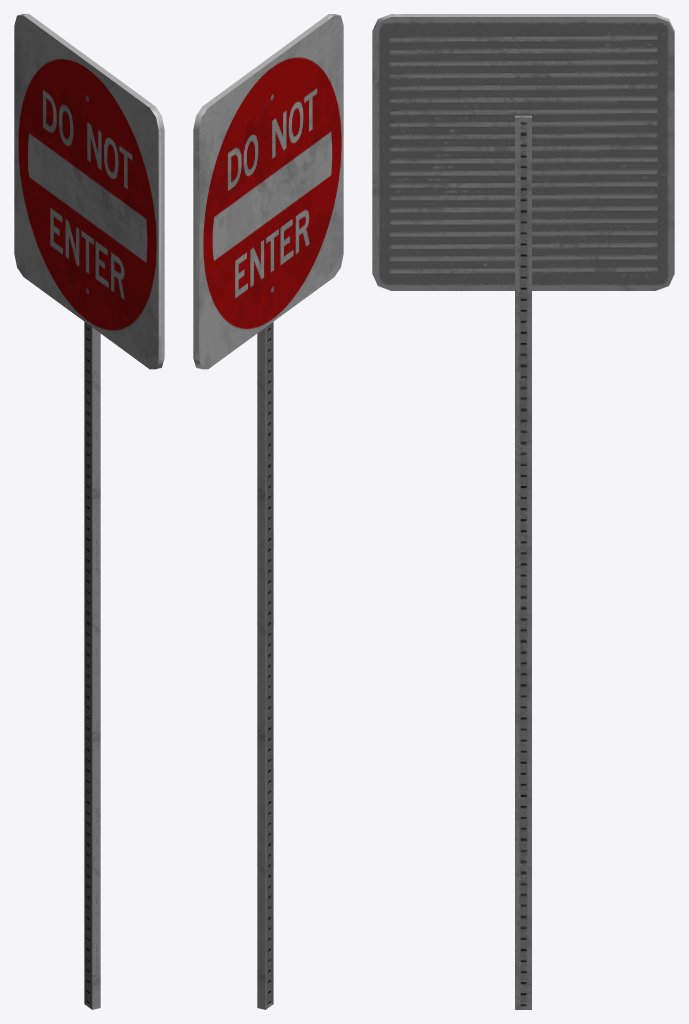
Rendered from MB_Sign_Not_Enter.fbx.
3 renders of one model, left to right at view 1: azimuth 30°, elevation 25°; view 2: azimuth 150°, elevation 25°; view 3: azimuth 270°, elevation 25°, orthographic. The views are drawn at different scales.
Visible parts, largest first — view 1: MB_Sign_Not_Enter; view 2: MB_Sign_Not_Enter; view 3: MB_Sign_Not_Enter.
Part boxes in pixels (x1=…): MB_Sign_Not_Enter: x1=14, y1=14, x2=164, y2=1009; MB_Sign_Not_Enter: x1=193, y1=14, x2=343, y2=1009; MB_Sign_Not_Enter: x1=372, y1=14, x2=674, y2=1009.
Bounding box in the file's own units: 2.57 × 232 × 64.16.
